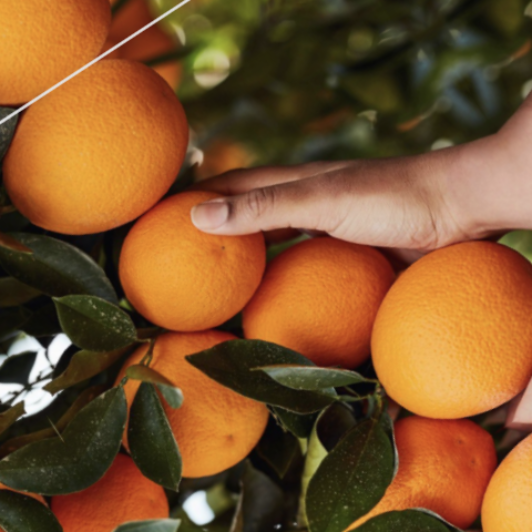orange: (0, 35, 236, 298), (324, 200, 532, 471), (72, 155, 301, 376)
